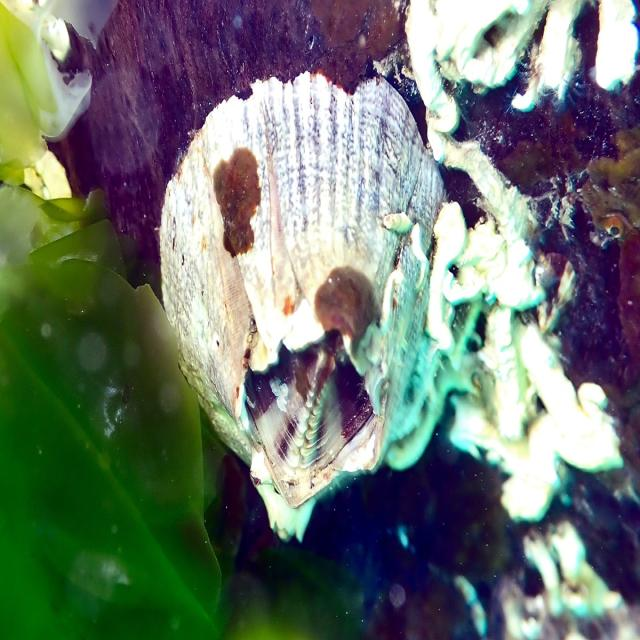barnacles: (150, 77, 448, 551)
